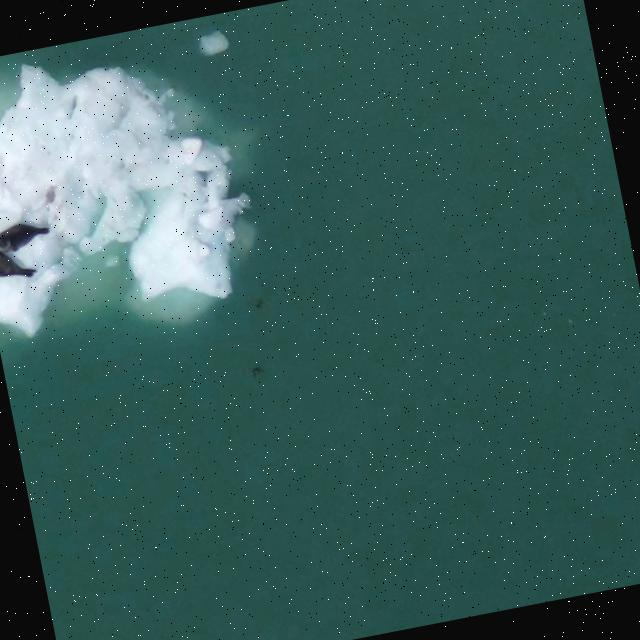seal: (0, 223, 49, 254)
